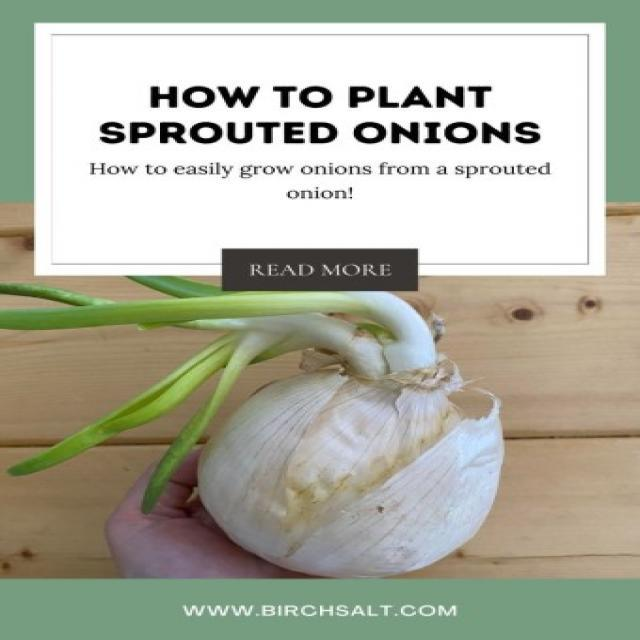Onion: (96, 334, 557, 576)
